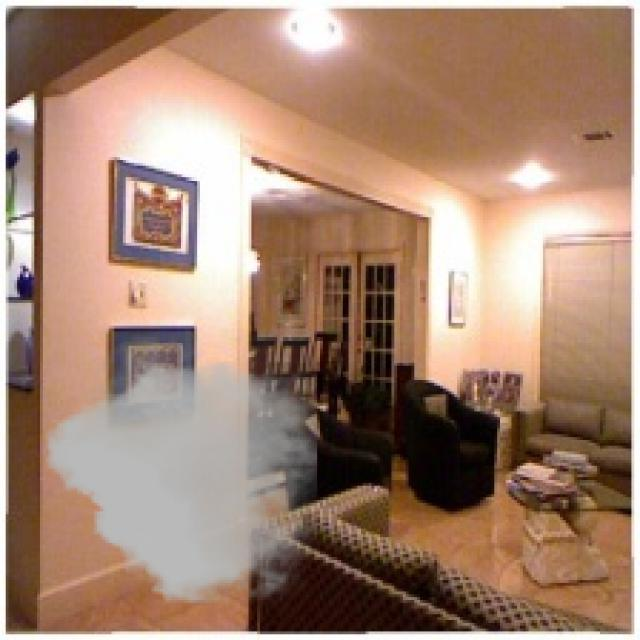smoke: (46, 328, 317, 608)
